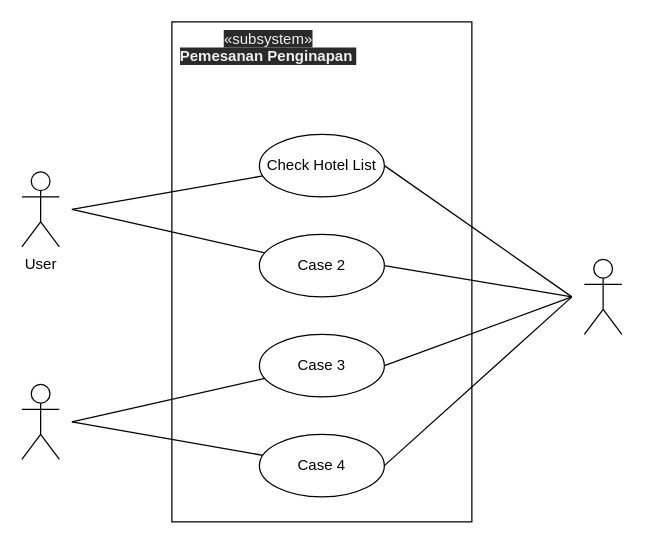
Image size: 646x544. Some labels were removed from this diagram. The shapes that lost their labels are listed below. From the top down, each one's centre as x and y in pixels, then its label:
At point 602,296: "Admin".
At point 40,421: "Mitra".
